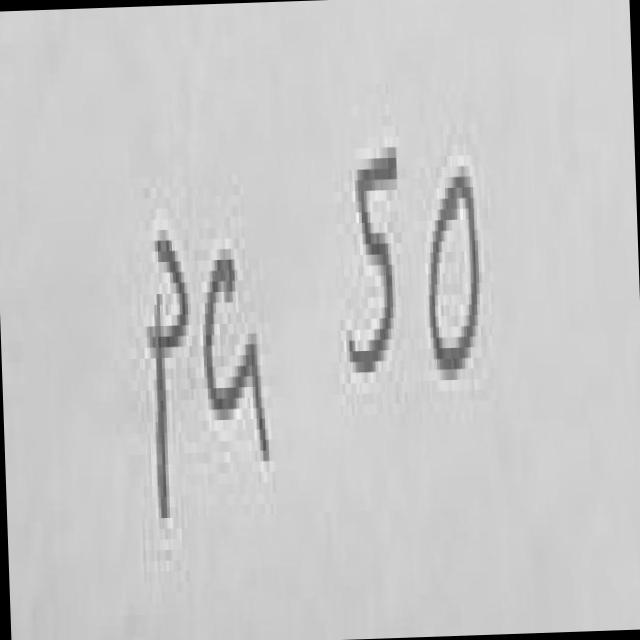0: (431, 176, 480, 369)
5: (349, 147, 399, 372)
G: (205, 259, 269, 455)
P: (149, 240, 188, 518)
